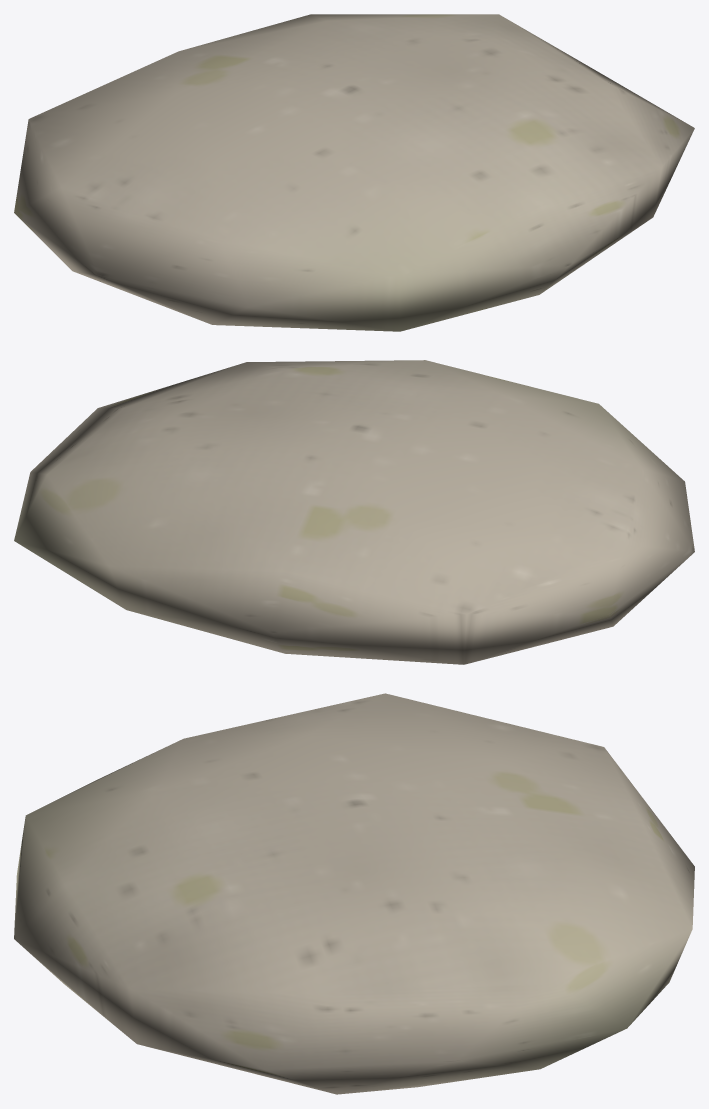
File: region-prop-240.glb
The picture shows the model from 3 angles, top to bottom: view 1: azimuth 30°, elevation 25°; view 2: azimuth 150°, elevation 25°; view 3: azimuth 270°, elevation 25°; orthographic projection. The views are drawn at different scales.
Parts seen in each view (by area): view 1: props_rock_0; view 2: props_rock_0; view 3: props_rock_0.
Boxes of the visible parts, x1=… form: props_rock_0: x1=14, y1=14, x2=694, y2=331; props_rock_0: x1=14, y1=360, x2=694, y2=664; props_rock_0: x1=14, y1=693, x2=694, y2=1094.
Bounding box in the file's own units: 0.4878 × 0.1311 × 0.4181.
Materials: 1 (1 with a texture image).
